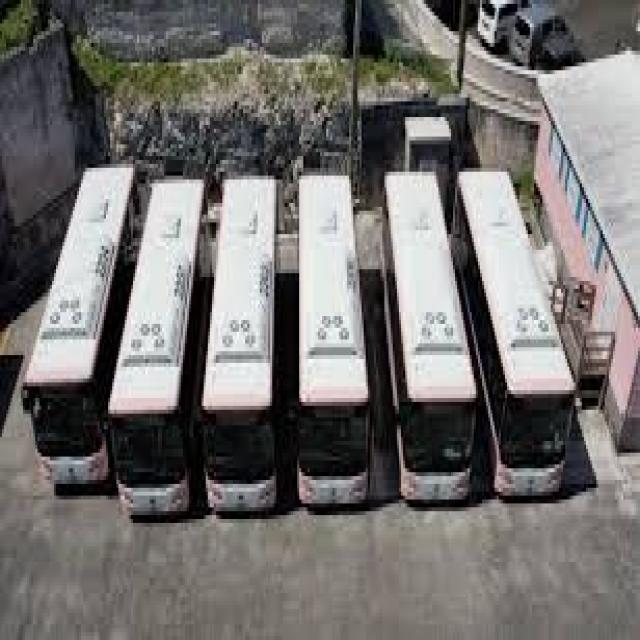bus: (454, 171, 577, 499), (24, 163, 145, 480), (108, 175, 214, 517), (378, 168, 478, 499), (203, 171, 287, 514), (298, 173, 369, 502)
